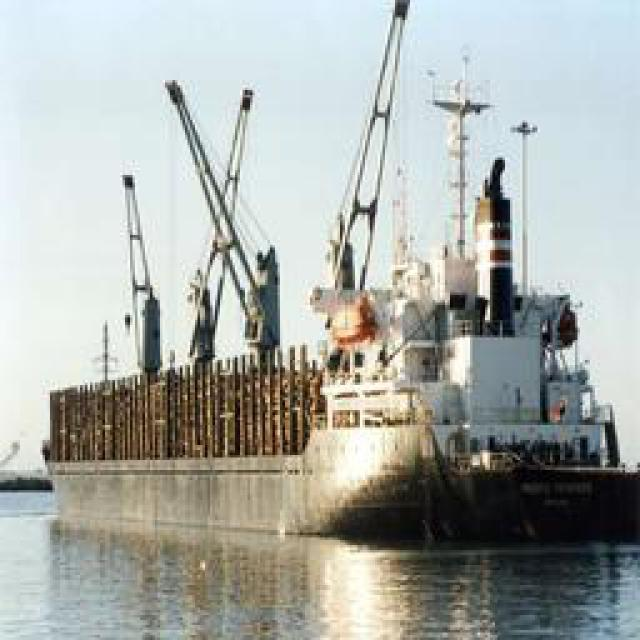Ship: (30, 11, 618, 545)
